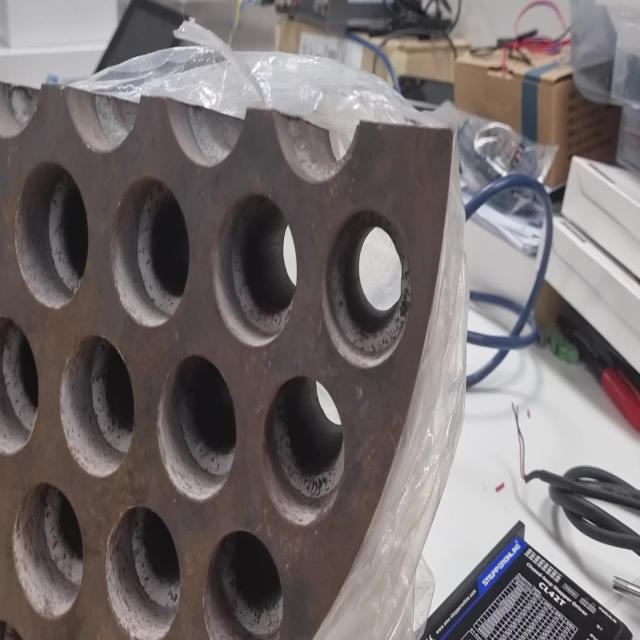Hole: (323, 207, 412, 368), (212, 194, 298, 346), (261, 375, 345, 526), (110, 176, 190, 328), (157, 354, 236, 502), (58, 332, 136, 478), (14, 160, 89, 310), (105, 502, 182, 640), (12, 480, 85, 620), (203, 528, 283, 640), (0, 313, 40, 457)
